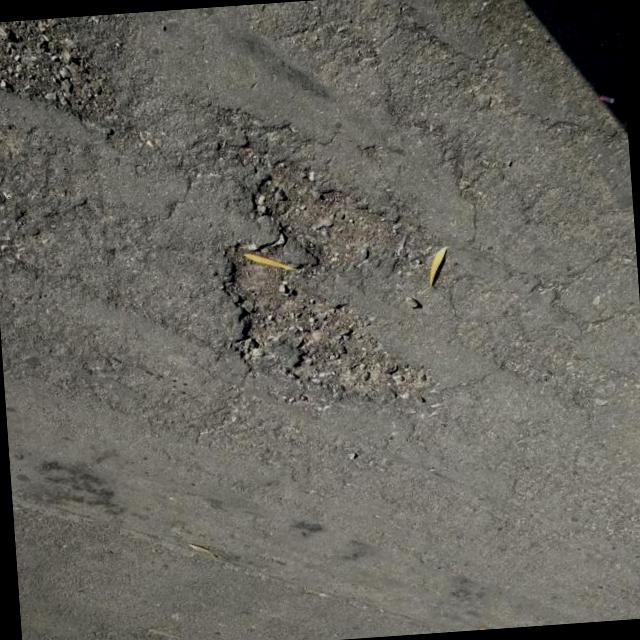pothole: (205, 157, 452, 416), (0, 15, 125, 134)
